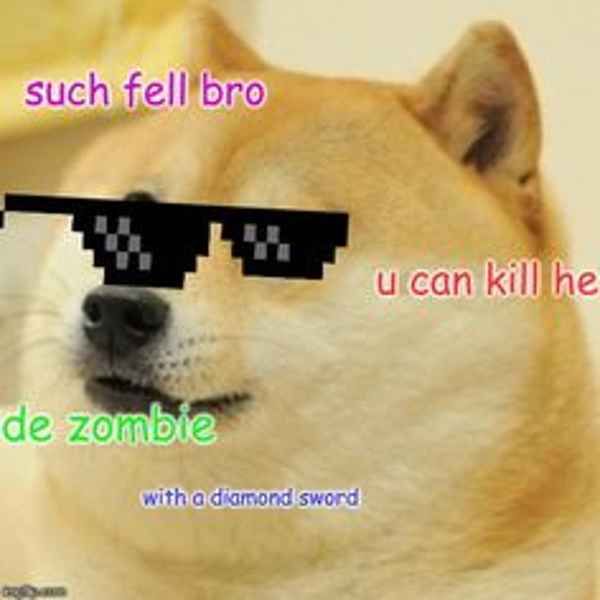doge: (42, 13, 552, 506)
